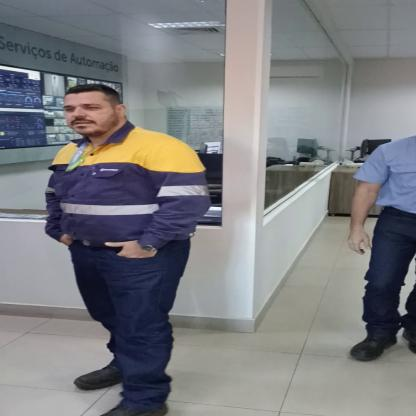Operacional: (38, 137, 215, 244)
